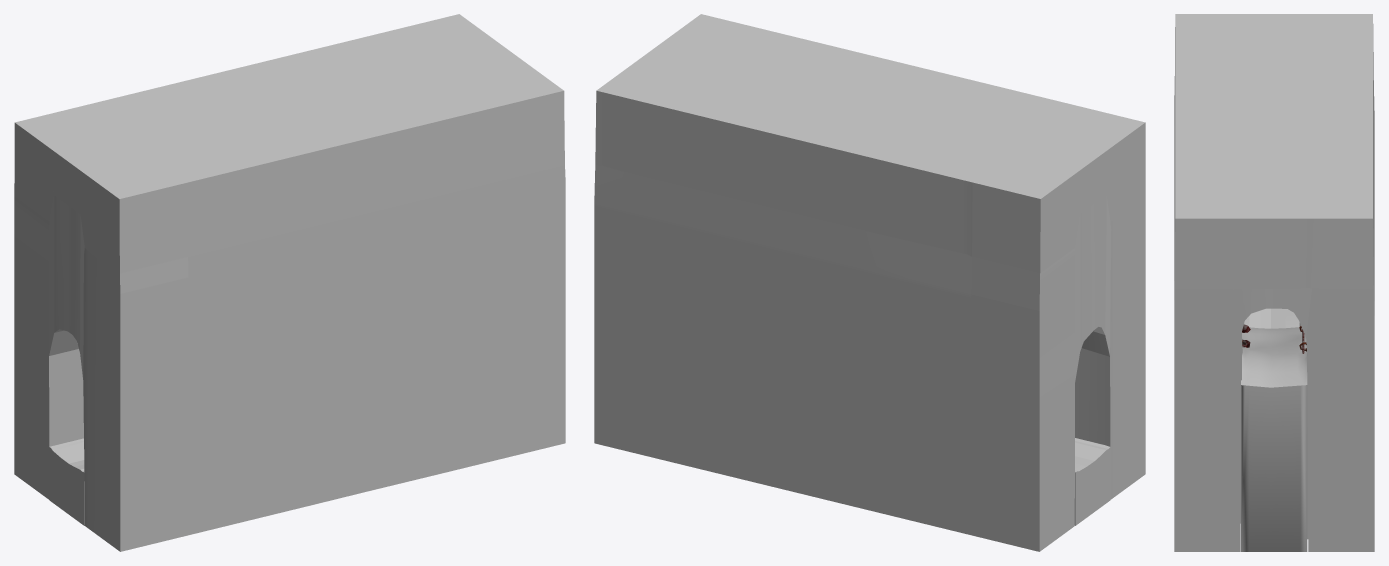
File: stad_street.fbx
3 views of the same model, side by side, from view 1: azimuth 30°, elevation 25°; view 2: azimuth 150°, elevation 25°; view 3: azimuth 270°, elevation 25° (orthographic). The views are drawn at different scales.
Parts seen in each view (by area): view 1: walls, ground; view 2: walls, ground; view 3: walls, ground.
Boxes of the visible parts, left/top/right/bottom form: walls: left=14, top=14, right=565, bottom=551; ground: left=49, top=438, right=84, bottom=525; walls: left=594, top=14, right=1145, bottom=551; ground: left=1074, top=438, right=1110, bottom=525; walls: left=1174, top=14, right=1374, bottom=551; ground: left=1241, top=308, right=1307, bottom=551.
Size of the model in its own units: 34.25 by 14.1 by 25.83.
